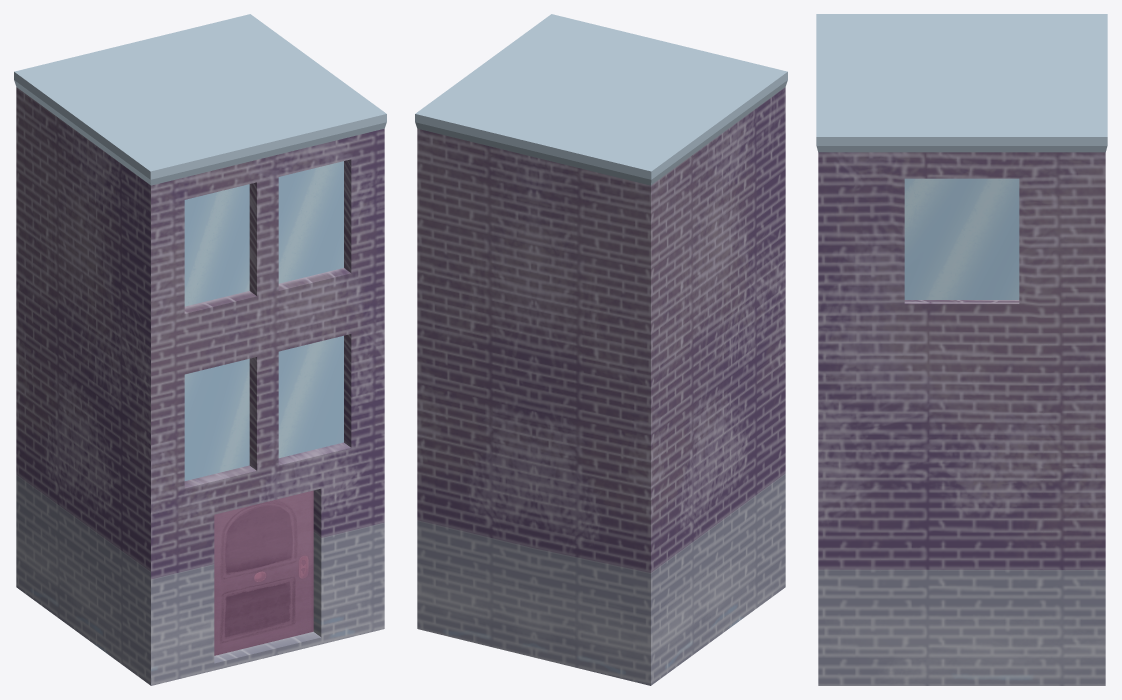
Rendered from SM_cassa_9.fbx.
3 renders of one model, left to right at view 1: azimuth 30°, elevation 25°; view 2: azimuth 150°, elevation 25°; view 3: azimuth 270°, elevation 25°, orthographic. The views are drawn at different scales.
Visible parts, largest first — view 1: Casa_0.005; view 2: Casa_0.005; view 3: Casa_0.005.
Part boxes in pixels (x1,y1,x2,y2): Casa_0.005: (14, 14, 386, 685); Casa_0.005: (415, 14, 787, 685); Casa_0.005: (816, 14, 1107, 685).
Bounding box in the file's own units: 710 × 1479 × 710.
